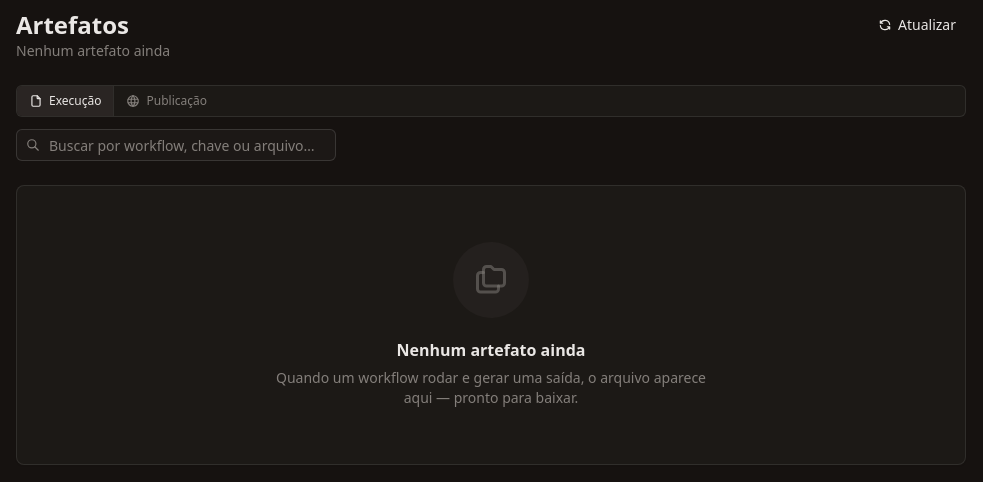
Scenario: Artefatos — 1ª carga › lista vazia sem recorte é o primeiro uso, com o substantivo da aba
Expected: the text "Nenhum artefato ainda" is shown 2 times, top-left (16, 41), bottom-right (170, 61); top-left (396, 339), bottom-right (585, 361)
Click the button "Publicação".
click(166, 101)  # box top-left (114, 86), bottom-right (219, 116)
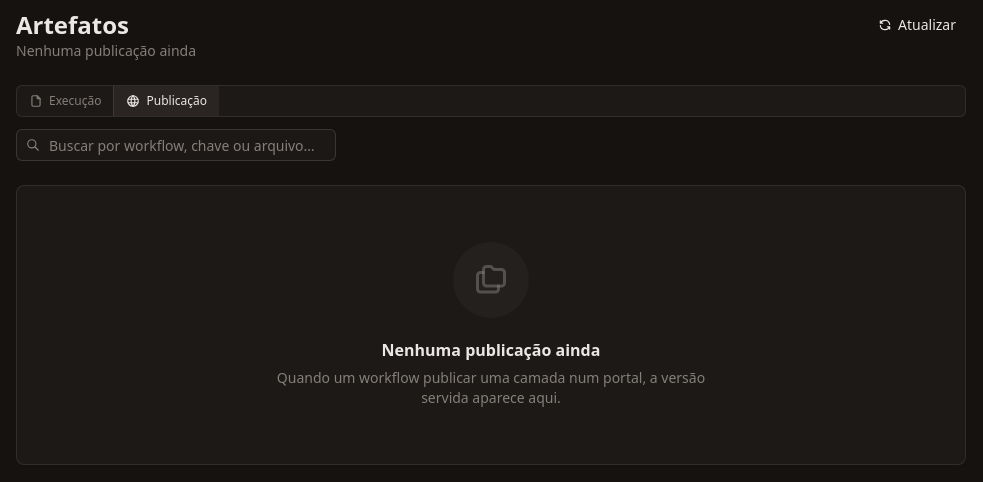
Result: the text "Nenhuma publicação ainda" below "Artefatos" is shown at top-left (16, 41), bottom-right (196, 60)
